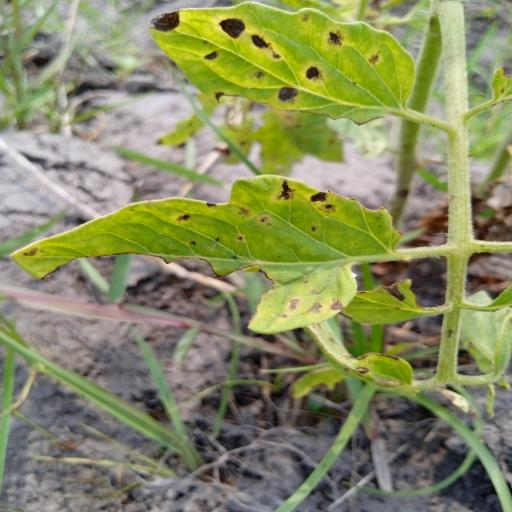Tomato_Brown_Spots: (12, 173, 405, 336), (147, 2, 421, 128)
